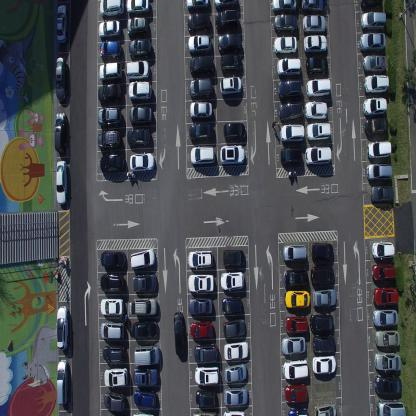car: (374, 373, 402, 397), (56, 358, 69, 406), (304, 144, 332, 166), (56, 304, 69, 350), (134, 344, 160, 367), (187, 10, 211, 34), (279, 99, 303, 123), (277, 77, 303, 99), (282, 358, 308, 380), (359, 32, 386, 53), (372, 286, 399, 307), (374, 351, 401, 372), (187, 272, 215, 292), (375, 397, 406, 415), (56, 159, 68, 205), (310, 263, 334, 286), (173, 310, 185, 356), (130, 247, 154, 270), (189, 54, 214, 76), (273, 12, 298, 34), (97, 106, 122, 128), (309, 312, 334, 334), (224, 340, 249, 362), (194, 364, 219, 386), (219, 144, 245, 165), (282, 267, 308, 288), (188, 249, 214, 270), (55, 56, 67, 101), (360, 11, 387, 31), (215, 8, 238, 31), (103, 390, 126, 413), (190, 144, 214, 166), (189, 77, 213, 99), (306, 77, 330, 99), (128, 80, 152, 102), (128, 37, 152, 59), (100, 271, 124, 293), (125, 59, 150, 80), (362, 95, 387, 116), (220, 271, 245, 292), (132, 387, 157, 408), (103, 366, 128, 387), (305, 121, 331, 141), (129, 151, 155, 171), (280, 334, 306, 354), (223, 386, 249, 406), (132, 320, 158, 340), (283, 290, 310, 309), (219, 74, 242, 96), (98, 82, 121, 104), (284, 382, 307, 404), (224, 362, 247, 384), (302, 13, 326, 34), (312, 287, 336, 308), (194, 342, 218, 363), (189, 121, 214, 141), (276, 56, 301, 76), (364, 74, 389, 94), (371, 262, 396, 282), (375, 328, 400, 348), (132, 273, 157, 293), (99, 154, 125, 173), (366, 140, 392, 159), (366, 162, 392, 181), (54, 111, 66, 152), (222, 248, 245, 269), (188, 33, 212, 53), (217, 32, 241, 52), (98, 39, 122, 59), (99, 61, 123, 81), (97, 130, 121, 150), (312, 333, 336, 353), (188, 295, 212, 315), (133, 297, 157, 317), (362, 54, 387, 73), (364, 117, 389, 136), (312, 355, 337, 374), (282, 243, 307, 262), (133, 368, 158, 387), (279, 124, 305, 142), (126, 127, 152, 145), (128, 106, 154, 124), (372, 308, 398, 326), (100, 250, 126, 268), (220, 52, 242, 73), (56, 2, 67, 44), (223, 120, 246, 140), (274, 34, 297, 54), (223, 318, 246, 338), (285, 314, 308, 334), (189, 100, 213, 119), (370, 184, 394, 203), (310, 242, 334, 261), (100, 321, 124, 340), (100, 297, 124, 316), (98, 0, 124, 17), (127, 15, 148, 36), (221, 294, 242, 315), (304, 101, 327, 120), (303, 34, 327, 52), (371, 241, 395, 259), (280, 146, 302, 165), (306, 55, 328, 74), (98, 19, 120, 38), (190, 320, 212, 339), (103, 344, 126, 362), (195, 388, 217, 406), (314, 400, 337, 416), (125, 0, 150, 14), (301, 0, 325, 14), (271, 0, 298, 12), (186, 0, 209, 10), (192, 408, 218, 416), (360, 0, 382, 9), (213, 0, 237, 8), (288, 408, 310, 416), (223, 409, 246, 415), (132, 410, 155, 416)
